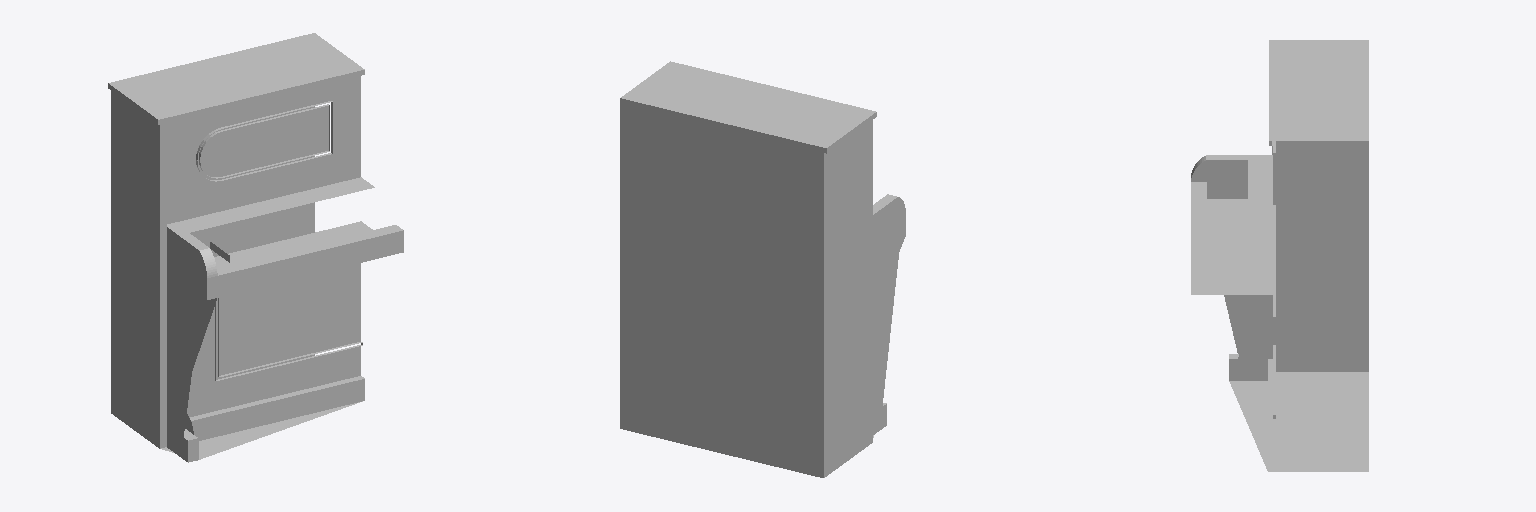
The model's file is piano__8.obj.
3 views of the same model, side by side, from view 1: azimuth 30°, elevation 25°; view 2: azimuth 150°, elevation 25°; view 3: azimuth 270°, elevation 25° (orthographic).
Visible parts, largest first — view 1: grp8; view 2: grp8; view 3: grp8.
Boxes of the visible parts, x1=… form: grp8: x1=108, y1=33, x2=403, y2=462; grp8: x1=620, y1=61, x2=905, y2=477; grp8: x1=1191, y1=40, x2=1368, y2=471.
Bounding box in the file's own units: 0.7466 × 1.14 × 0.5588.